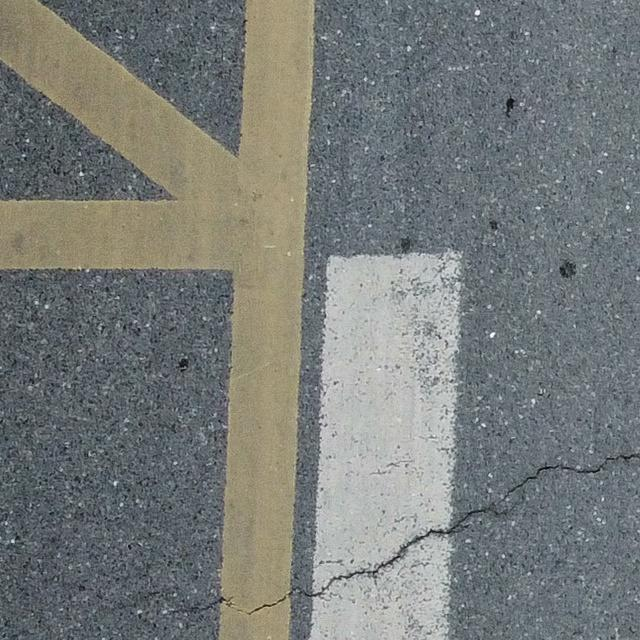TransverseCrack: (196, 453, 640, 613)
